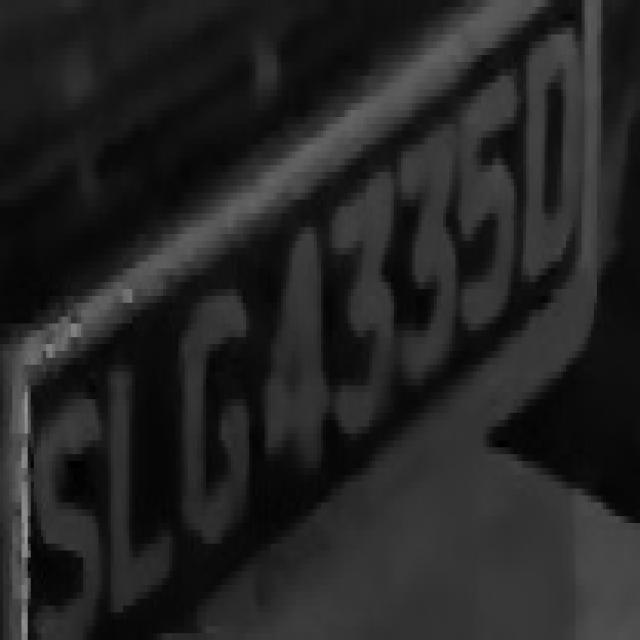3: (326, 172, 403, 440), (384, 124, 456, 406)
4: (258, 227, 336, 502)
5: (443, 76, 514, 372)
D: (508, 28, 588, 289)
G: (178, 275, 264, 585)
L: (104, 310, 178, 619)
S: (0, 4, 1, 7)
